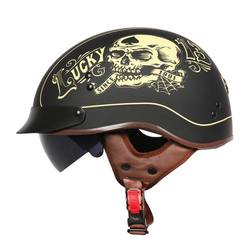with_helmet: (15, 26, 250, 194)
